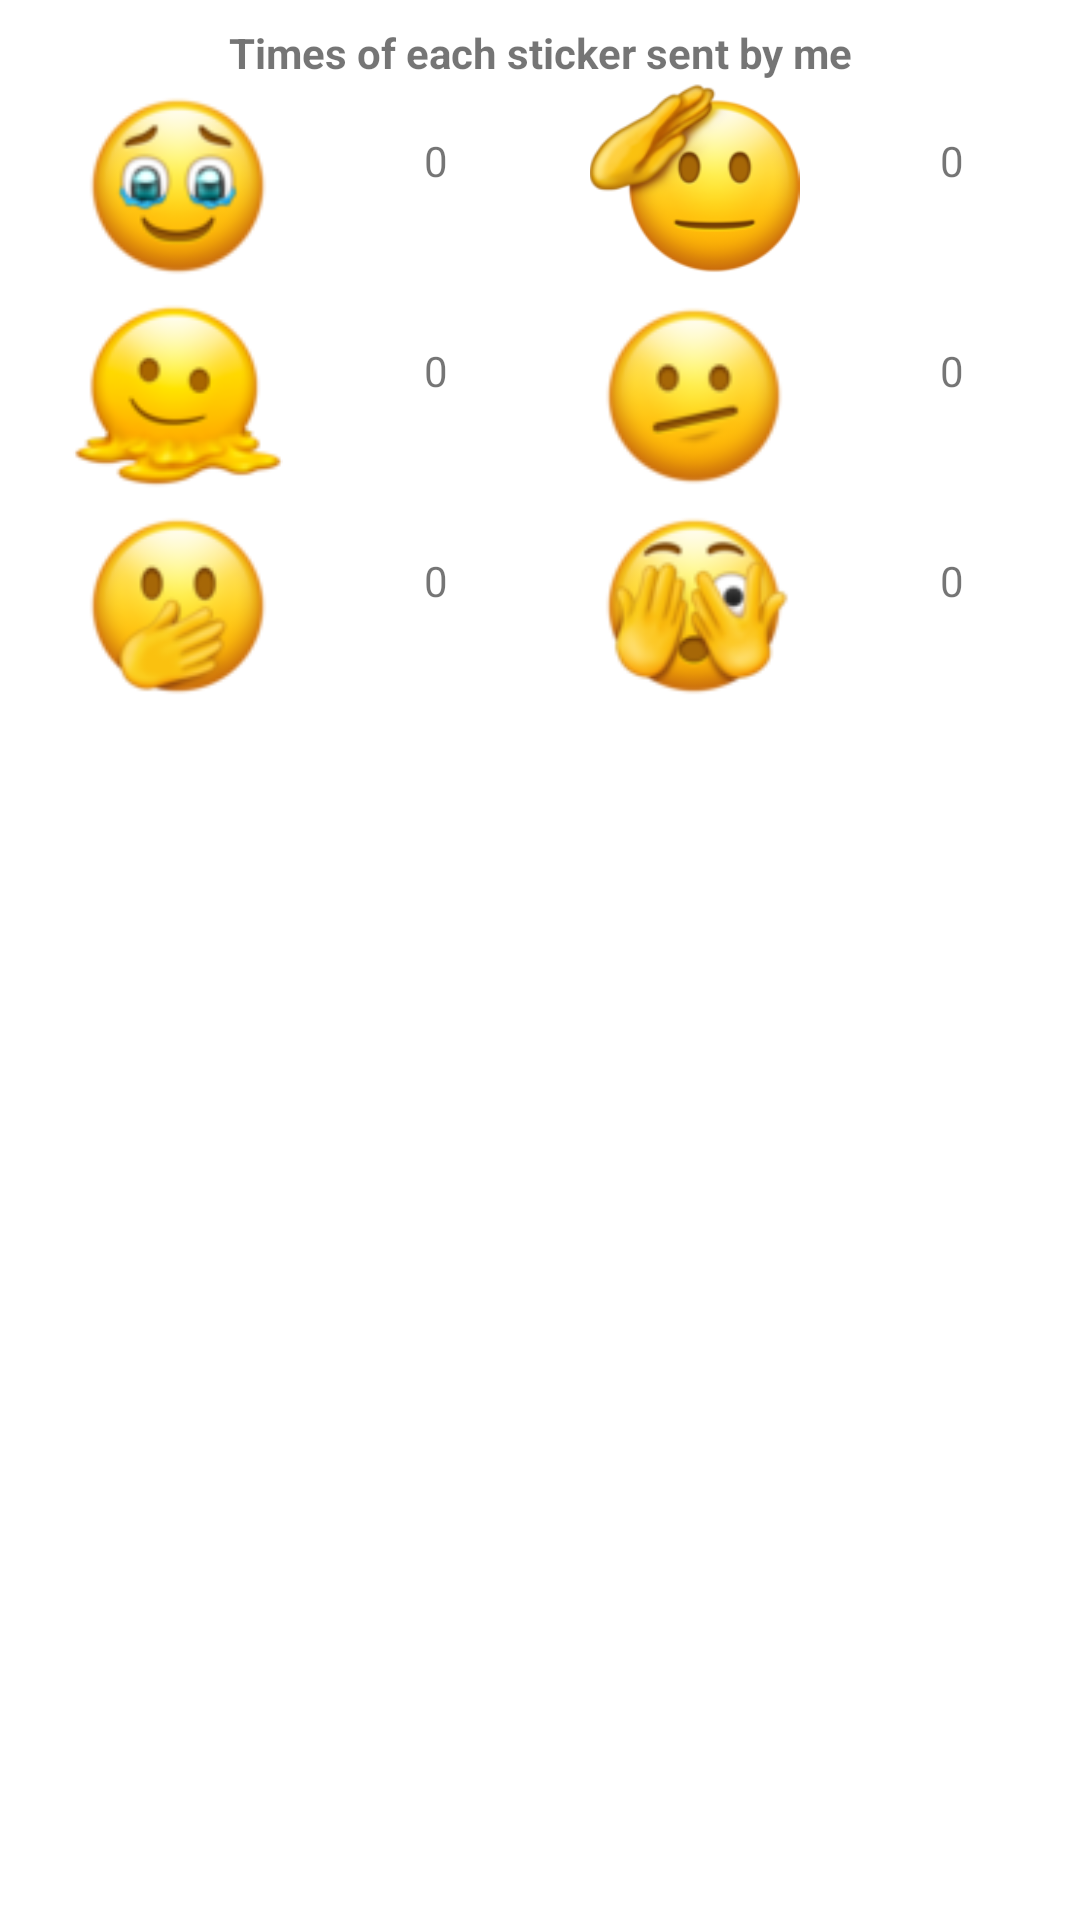

Icons on this 1080×1920 Android screen, each with its box as (x1=x1, y1=y1, x2=x2, y2=y2):
emoji: (x1=590, y1=84, x2=800, y2=272), (x1=91, y1=99, x2=265, y2=273), (x1=75, y1=306, x2=281, y2=485), (x1=607, y1=309, x2=781, y2=483), (x1=91, y1=519, x2=265, y2=693), (x1=607, y1=519, x2=788, y2=693)
